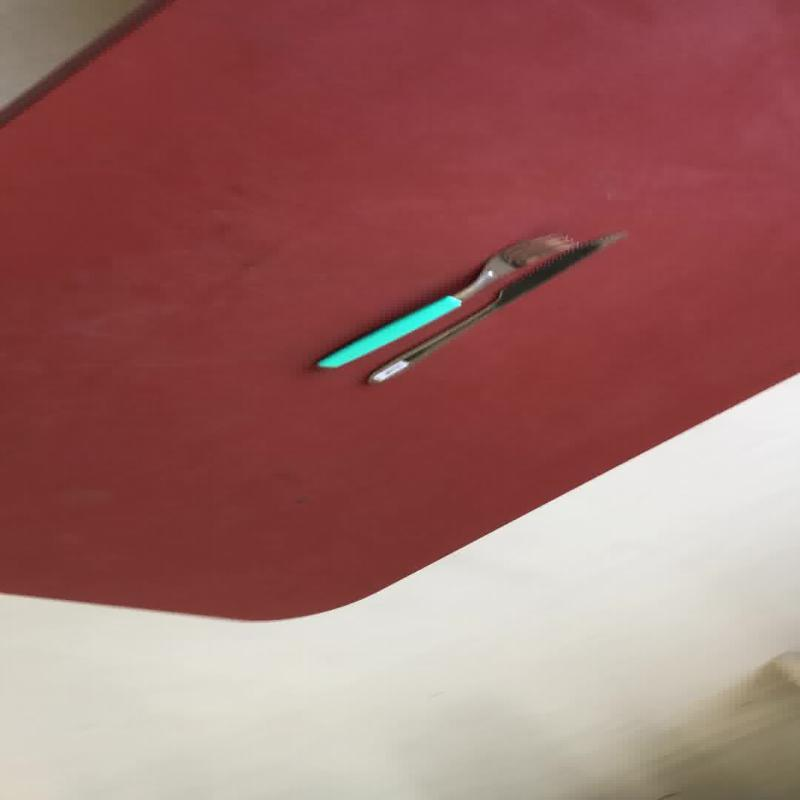fork: (363, 228, 627, 384), (312, 231, 578, 368)
knife: (313, 228, 626, 384), (312, 230, 578, 369)
